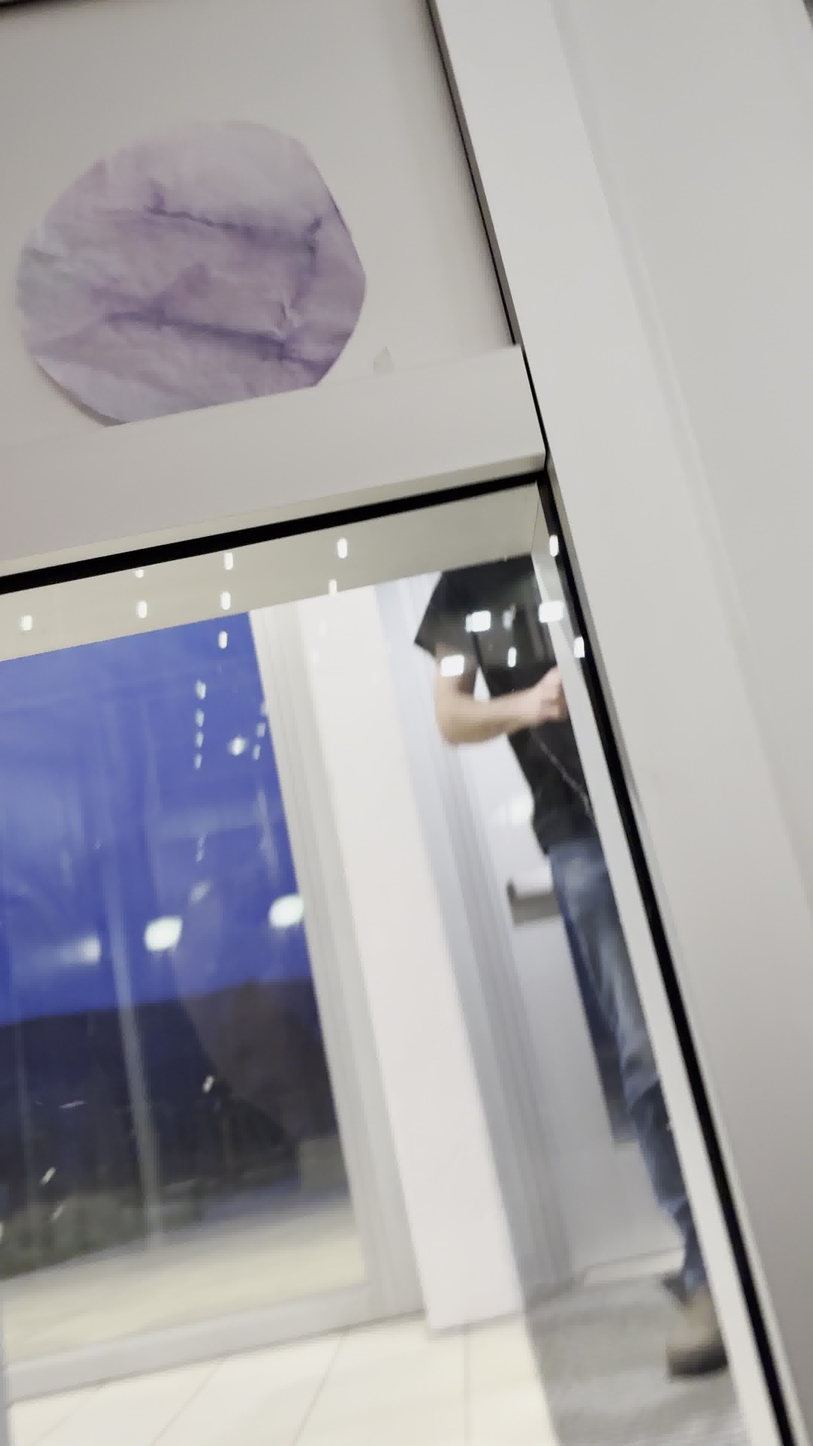Target: (3, 110, 384, 438)
